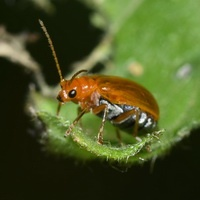insect: (39, 19, 158, 143)
